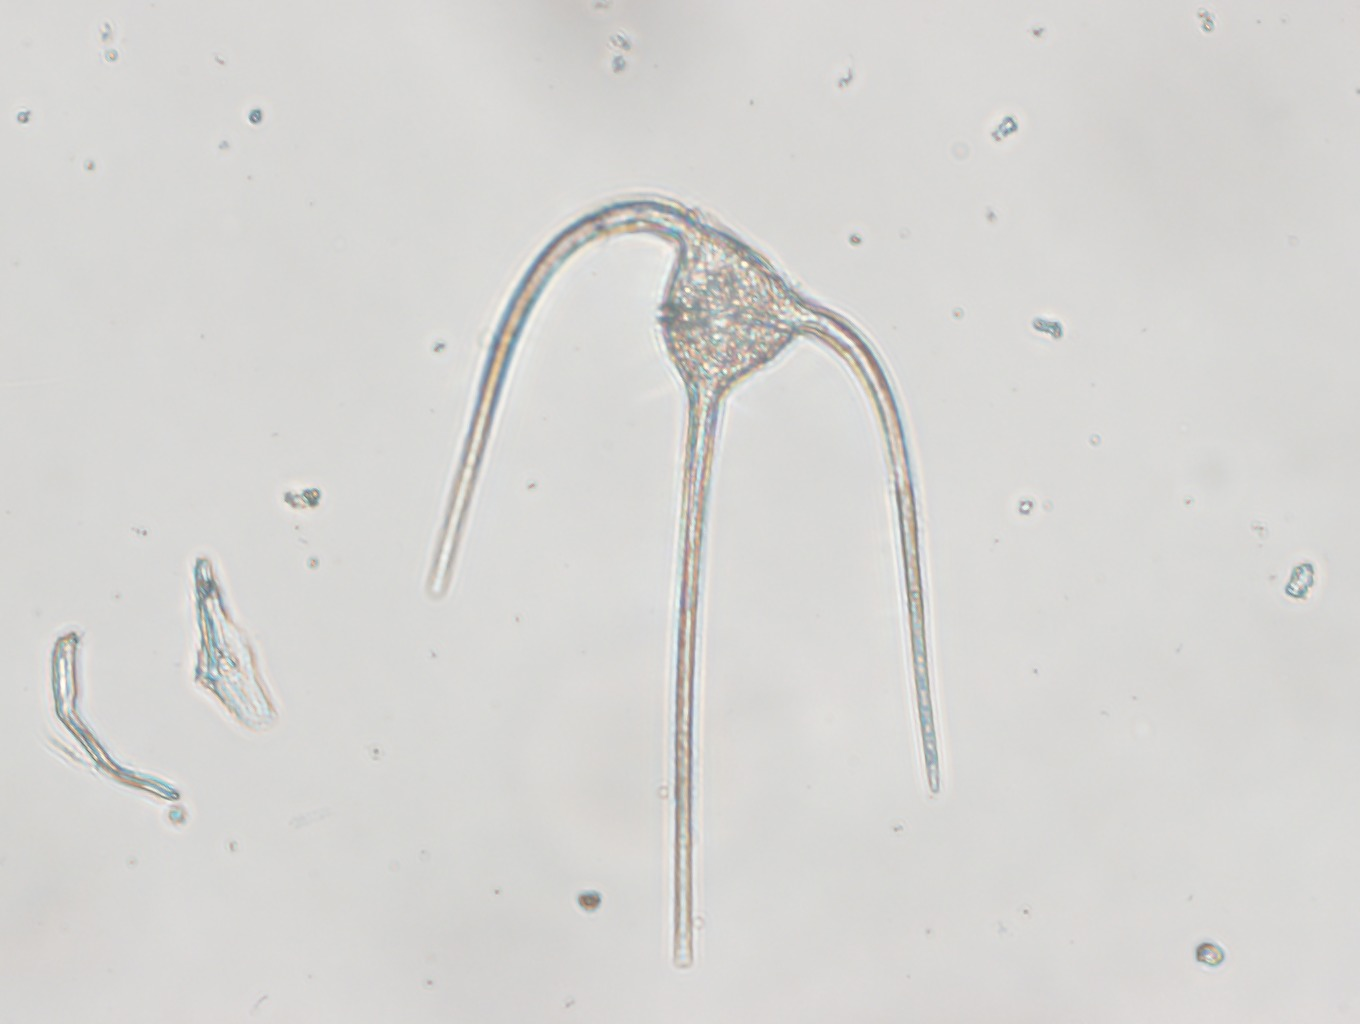ceratium trichoceros: (412, 196, 950, 981)
